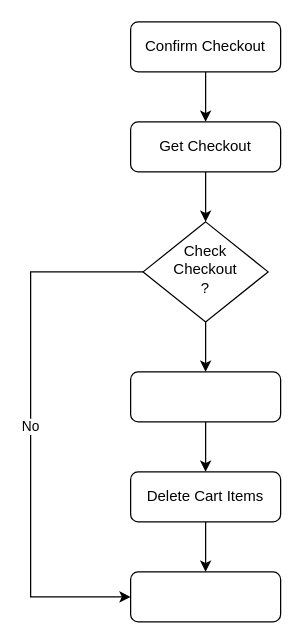
Some shapes in this 303 by 644 pixel diagram are drawn without their labels. The shapes that lost their labels are listed below. From the top down, each one's centre as x and y in pixels, then its label:
the point at 205,396: Submit Order
the point at 205,596: End
